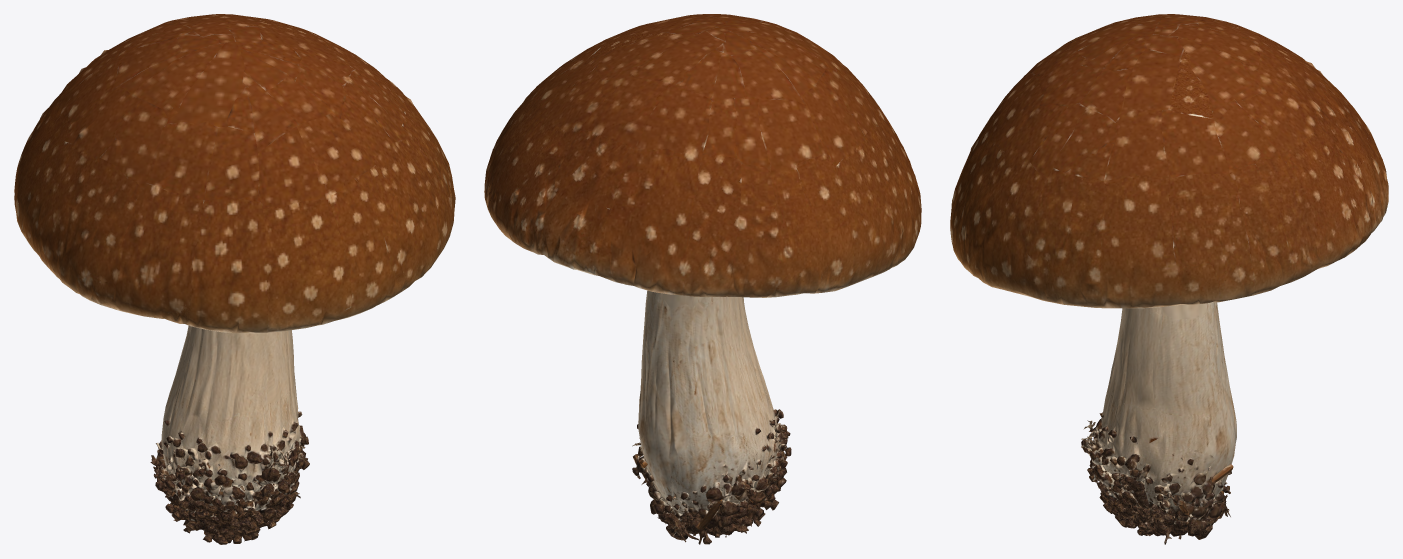
Rendered from mushroom.glb.
The picture shows the model from 3 angles, left to right: view 1: azimuth 30°, elevation 25°; view 2: azimuth 150°, elevation 25°; view 3: azimuth 270°, elevation 25°; orthographic projection.
Size of the model in its own units: 1.5 by 1.9 by 1.5.
Materials: 1 (1 with a texture image).
